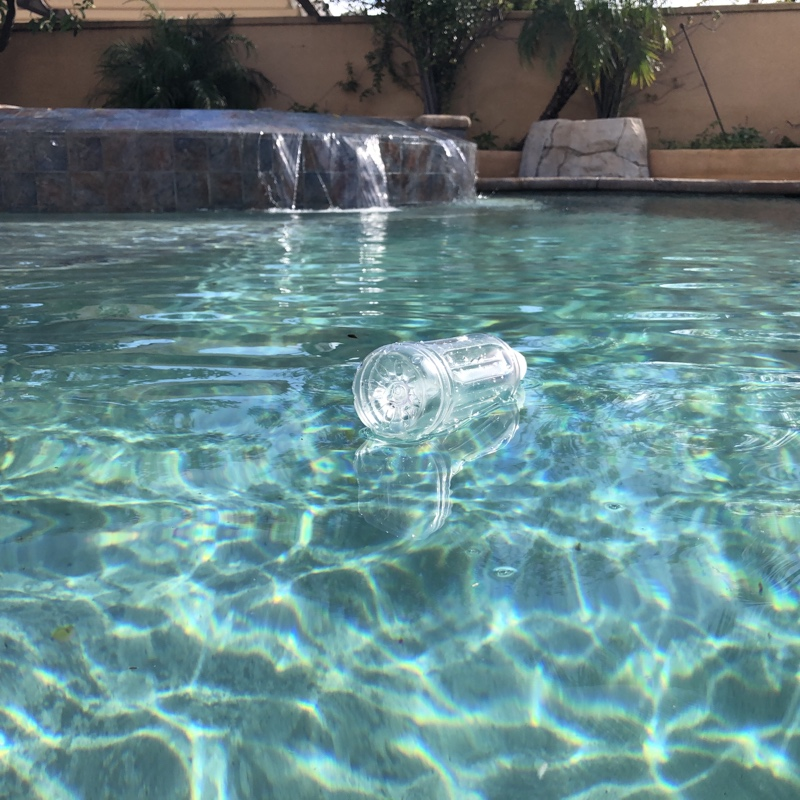Plastic Bottle: (349, 330, 529, 450)
